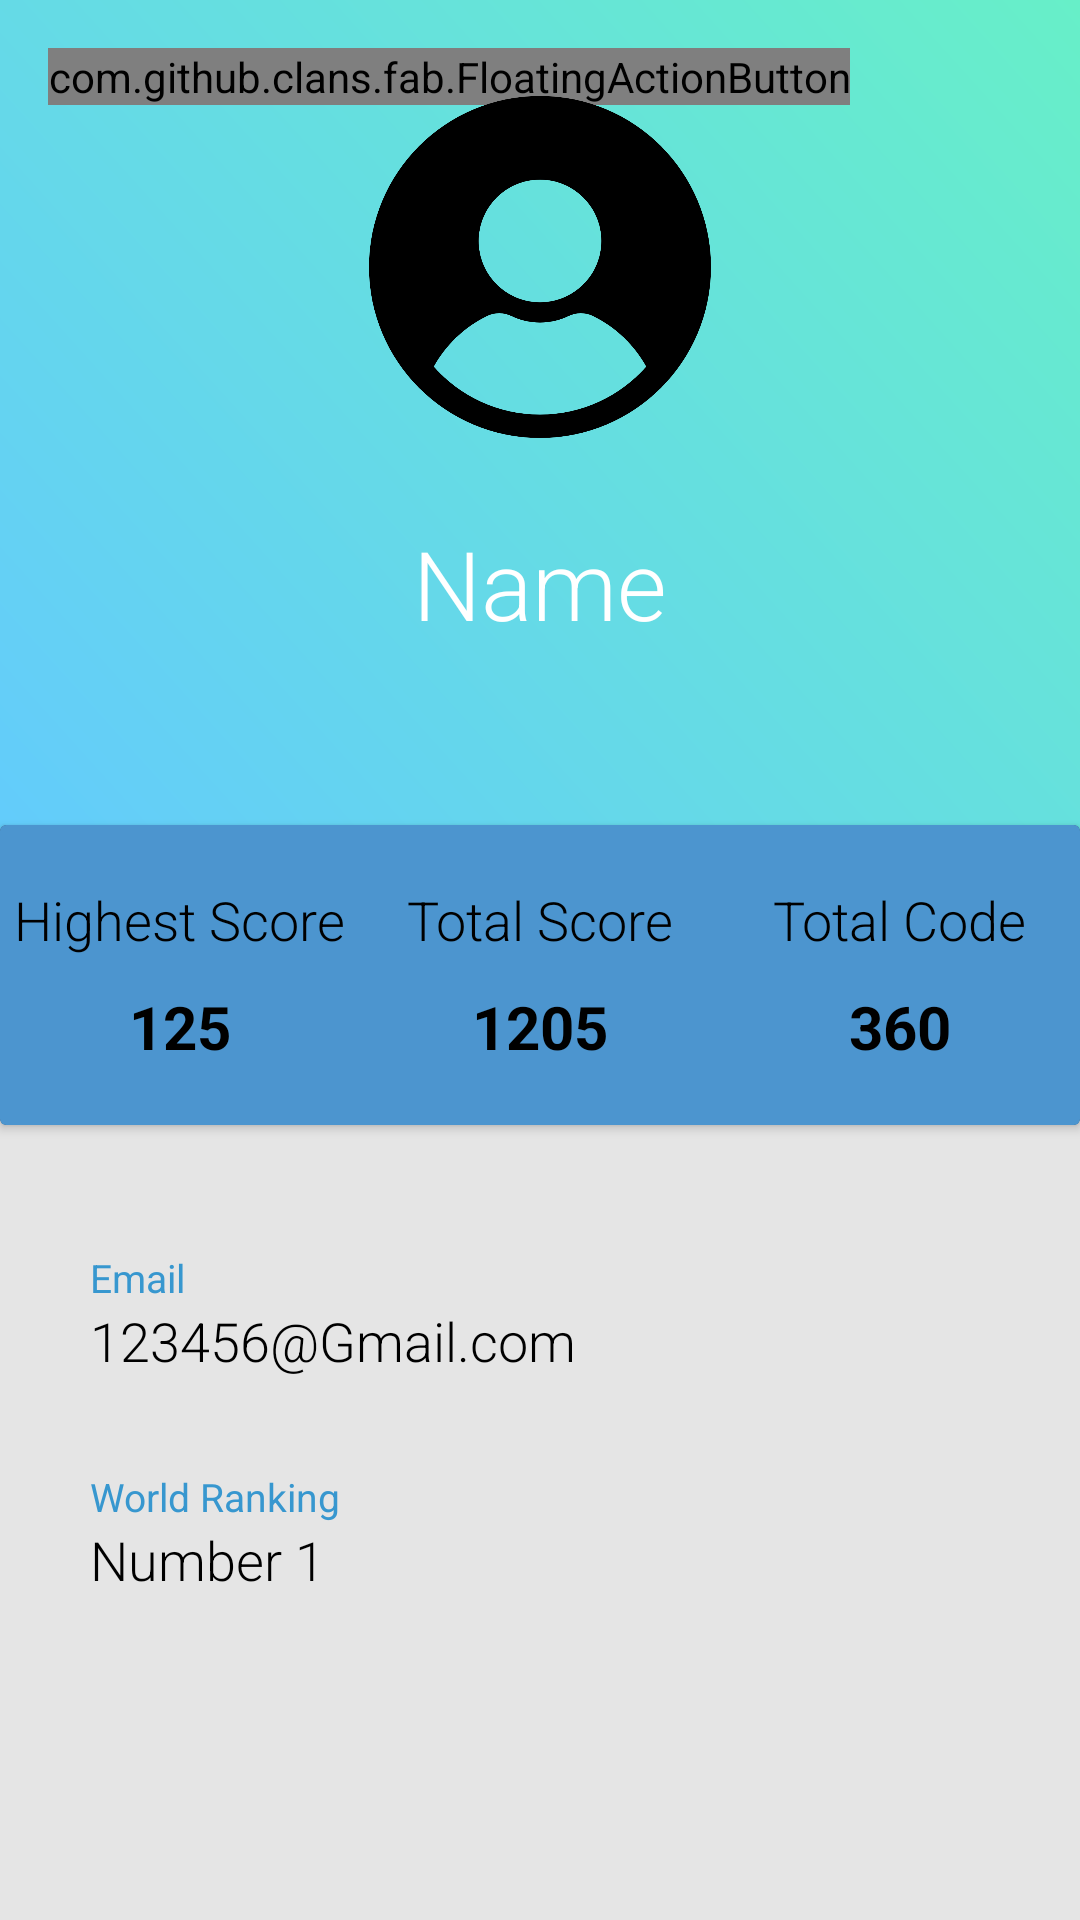

Screen size 1080*1920. Icon name, then its box in pixels as Rect(x1, y1, x2, y2):
user: Rect(360, 87, 720, 438)
